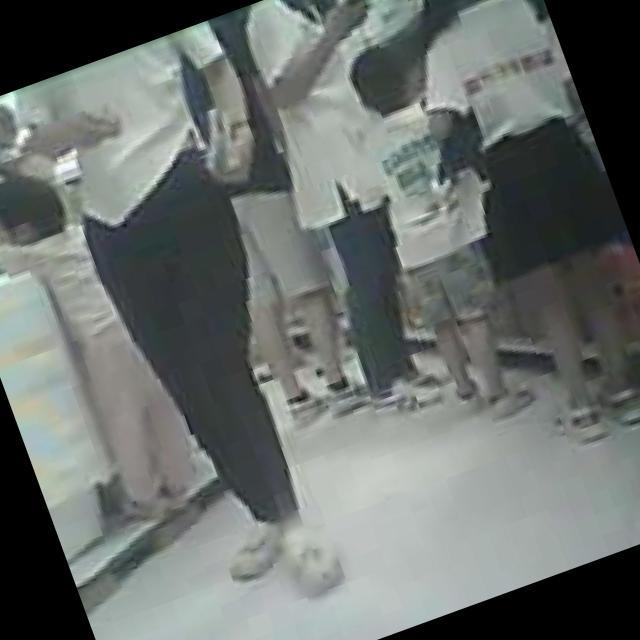person: (0, 15, 418, 640), (361, 0, 640, 458), (215, 0, 467, 428), (150, 8, 382, 430), (328, 34, 546, 432), (0, 153, 215, 540)
